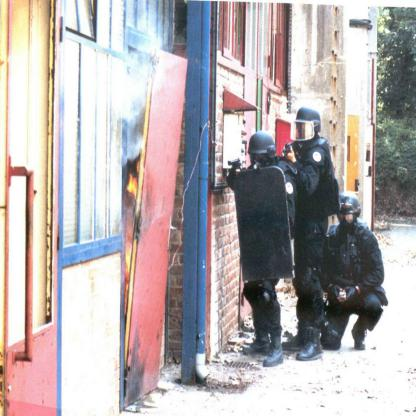face: (253, 150, 270, 177), (340, 205, 356, 231), (299, 120, 311, 144)
